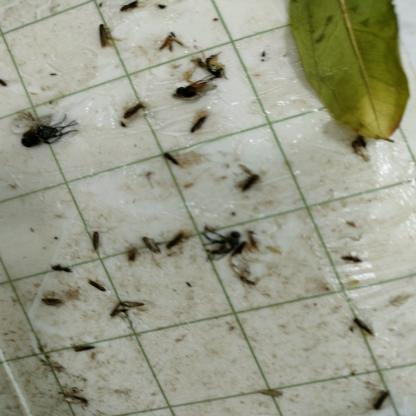prays_oleae: (1, 92, 80, 160), (171, 72, 219, 114), (119, 98, 147, 124), (113, 300, 144, 323), (235, 168, 260, 196), (367, 381, 390, 411), (98, 17, 115, 57), (123, 242, 139, 278), (355, 315, 377, 341), (165, 235, 191, 252), (90, 226, 105, 255), (86, 276, 105, 298), (189, 120, 212, 138), (142, 229, 157, 255), (49, 262, 70, 280), (71, 341, 94, 357), (238, 271, 253, 294), (41, 293, 62, 307), (342, 252, 362, 266), (162, 152, 178, 168)
